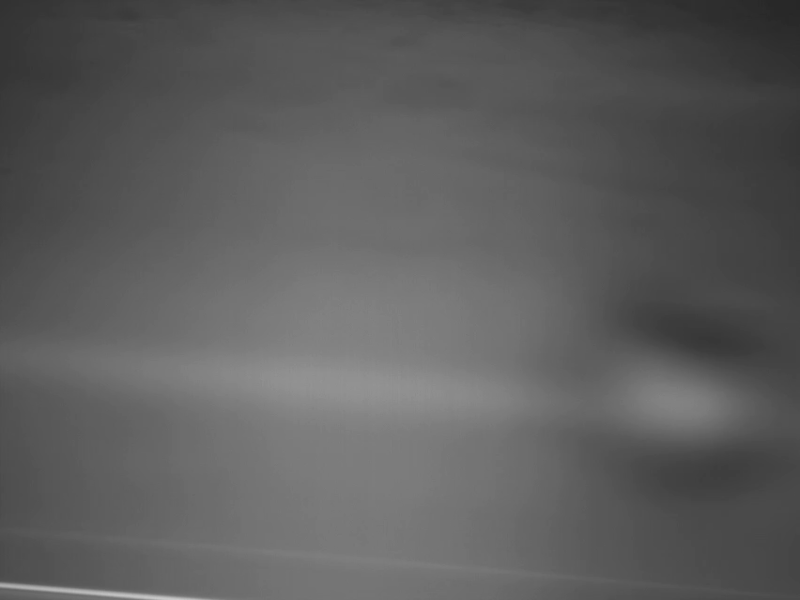bead: (583, 302, 789, 504)
